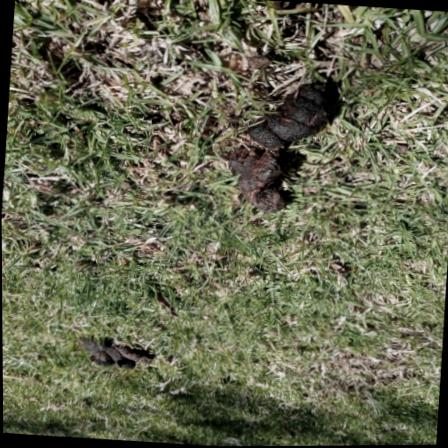dog-poop: (208, 70, 345, 225), (79, 334, 157, 391)
